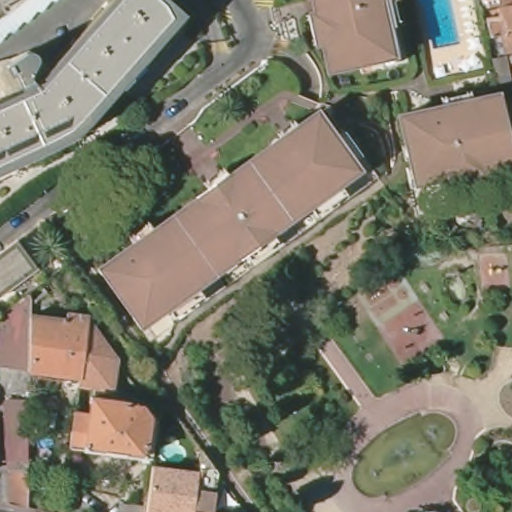pool: (415, 1, 464, 49), (155, 441, 188, 467), (37, 434, 57, 452)
